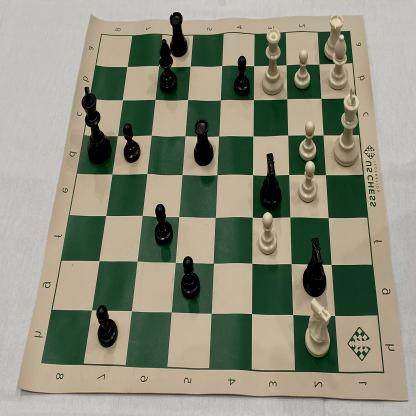black-bishop: (156, 35, 178, 96)
black-king: (79, 84, 113, 165)
black-knight: (300, 234, 329, 299), (256, 150, 284, 212)
black-pawn: (95, 304, 120, 352), (119, 120, 142, 167), (152, 200, 174, 248), (232, 53, 252, 99)
black-rook: (192, 116, 215, 170), (168, 6, 189, 60)
white-bishop: (325, 28, 352, 94), (292, 47, 313, 92)
white-king: (329, 86, 363, 170)
white-knight: (300, 296, 335, 361), (179, 252, 203, 303)
white-pawn: (256, 210, 280, 258), (296, 158, 320, 205), (297, 118, 319, 165)
white-queen: (258, 23, 284, 100)
white-rook: (322, 11, 346, 62)
